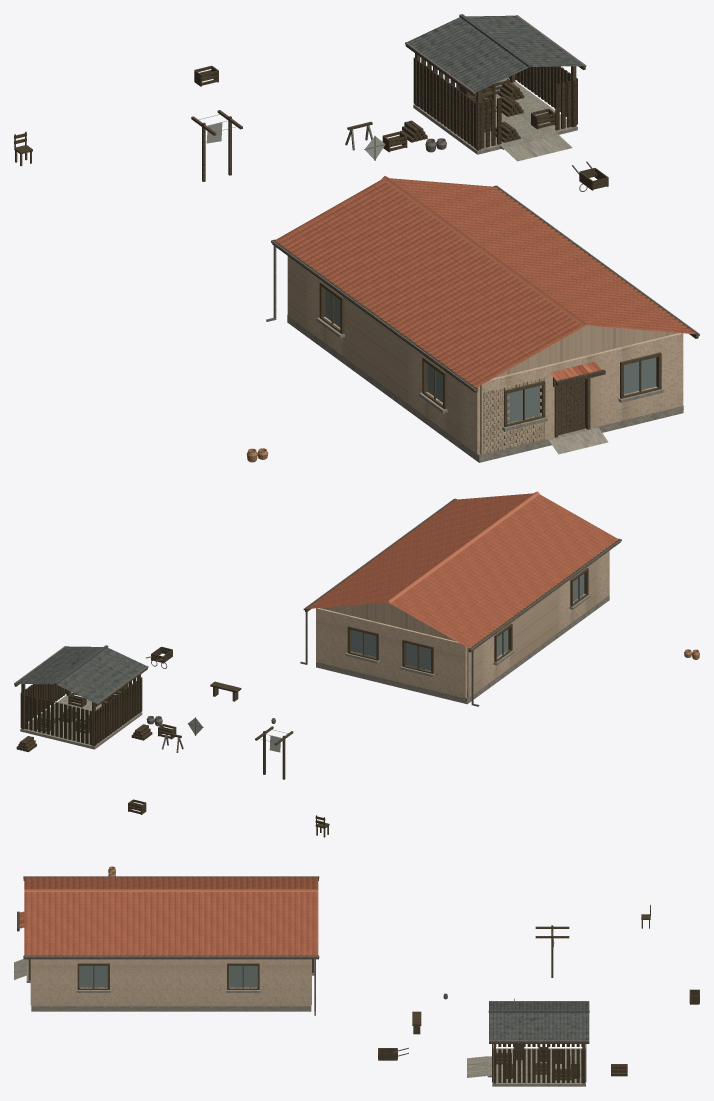
3 renders of one model, top to bottom at view 1: azimuth 30°, elevation 25°; view 2: azimuth 150°, elevation 25°; view 3: azimuth 270°, elevation 25°, orthographic. The views are drawn at different scales.
Parts seen in each view (by area): view 1: H02_TELHAS, H02_LATERAIS, H02_FACHADA, H02_PANDORGAS_COBERTURA, H02_PANDORGAS_RIPAS, H02_OITOES, H02_FUNDACAO, H02_VIDROS_RECUADOS, H02_CAIXILHOS, H02_TIJOLOS_APARENTES, H02_PANDORGAS_BASE, H02_CUMEEIRA (+6 smaller); view 2: H02_TELHAS, H02_FUNDOS, H02_LATERAIS, H02_PANDORGAS_RIPAS, H02_PANDORGAS_COBERTURA, H02_FUNDACAO, H02_OITOES, H02_VIDROS_RECUADOS, H02_CAIXILHOS, H02_PANDORGAS_BASE, H02_BEIRAIS, H02_CUMEEIRA (+1 smaller); view 3: H02_TELHAS, H02_LATERAIS, H02_PANDORGAS_COBERTURA, H02_PANDORGAS_RIPAS, H02_FUNDACAO, H02_BEIRAIS, H02_PANDORGAS_BASE, H02_VIDROS_RECUADOS, H02_CALHA, H02_CUMEEIRA, H02_CAIXILHOS, H02_PANDORGAS_RAMPA (+1 smaller).
Boxes of the visible parts, <box> form: H02_TELHAS: <box>275,178,695,387</box>; H02_LATERAIS: <box>287,256,683,454</box>; H02_FACHADA: <box>480,333,682,454</box>; H02_PANDORGAS_COBERTURA: <box>407,15,583,92</box>; H02_PANDORGAS_RIPAS: <box>413,57,577,148</box>; H02_OITOES: <box>494,325,677,377</box>; H02_FUNDACAO: <box>287,315,683,462</box>; H02_VIDROS_RECUADOS: <box>325,289,656,422</box>; H02_CAIXILHOS: <box>319,282,661,427</box>; H02_TIJOLOS_APARENTES: <box>483,377,544,454</box>; H02_PANDORGAS_BASE: <box>413,81,577,154</box>; H02_CUMEEIRA: <box>381,176,587,326</box>; H02_TELHAS: <box>307,493,618,648</box>; H02_FUNDOS: <box>317,608,466,698</box>; H02_LATERAIS: <box>316,551,609,697</box>; H02_PANDORGAS_RIPAS: <box>20,677,142,745</box>; H02_PANDORGAS_COBERTURA: <box>15,646,146,703</box>; H02_FUNDACAO: <box>316,595,609,704</box>; H02_OITOES: <box>320,602,455,641</box>; H02_VIDROS_RECUADOS: <box>351,574,584,670</box>; H02_CAIXILHOS: <box>347,568,588,673</box>; H02_PANDORGAS_BASE: <box>20,695,142,749</box>; H02_BEIRAIS: <box>305,498,620,652</box>; H02_CUMEEIRA: <box>386,491,539,602</box>; H02_TELHAS: <box>24,877,318,955</box>; H02_LATERAIS: <box>33,959,309,1006</box>; H02_PANDORGAS_COBERTURA: <box>489,1001,589,1040</box>; H02_PANDORGAS_RIPAS: <box>492,1044,586,1082</box>; H02_FUNDACAO: <box>31,966,311,1011</box>; H02_BEIRAIS: <box>23,876,318,959</box>; H02_PANDORGAS_BASE: <box>492,1048,585,1086</box>; H02_VIDROS_RECUADOS: <box>80,966,256,987</box>; H02_CALHA: <box>23,876,319,958</box>; H02_CUMEEIRA: <box>24,889,318,891</box>; H02_CAIXILHOS: <box>28,959,313,989</box>; H02_PANDORGAS_RAMPA: <box>467,1056,487,1077</box>.
Bounding box in the file's own units: 22.61 × 4.28 × 30.85.
Materials: 13 (10 with a texture image).
